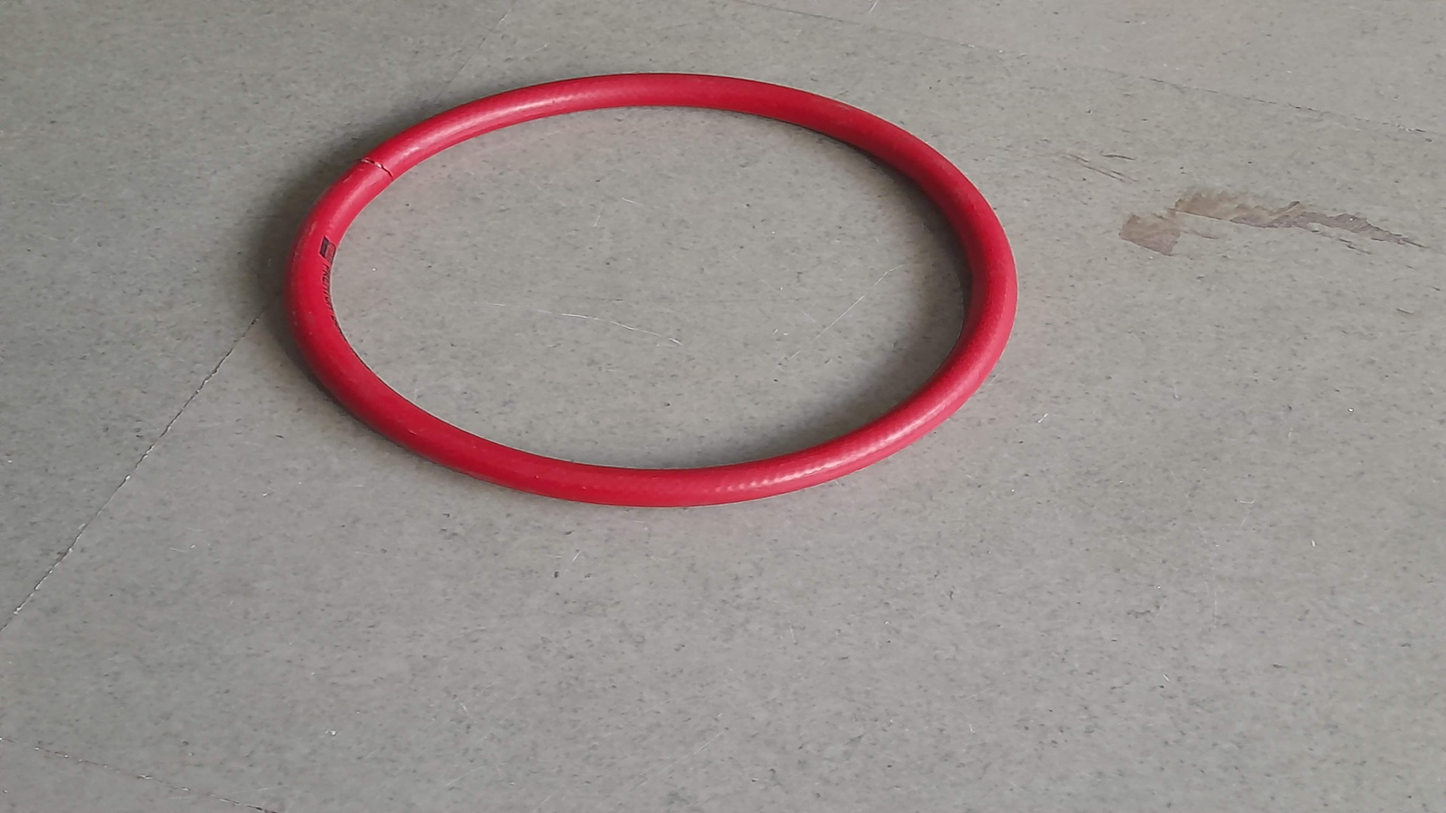Red ring: (291, 73, 1018, 506)
